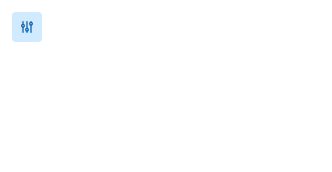
Test: StatusActionMenu › offers other statuses and calls back with the selected value
Later steps or results of the test are not shown.
Click the button named "Zmień status". click: click(27, 27)
box: x1=12 y1=12 x2=42 y2=42
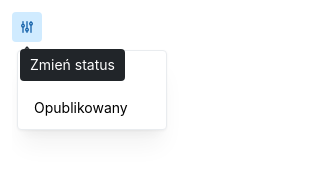
Check: the menu item "Szkic" is disabled, box x1=22 y1=55 x2=162 y2=90
